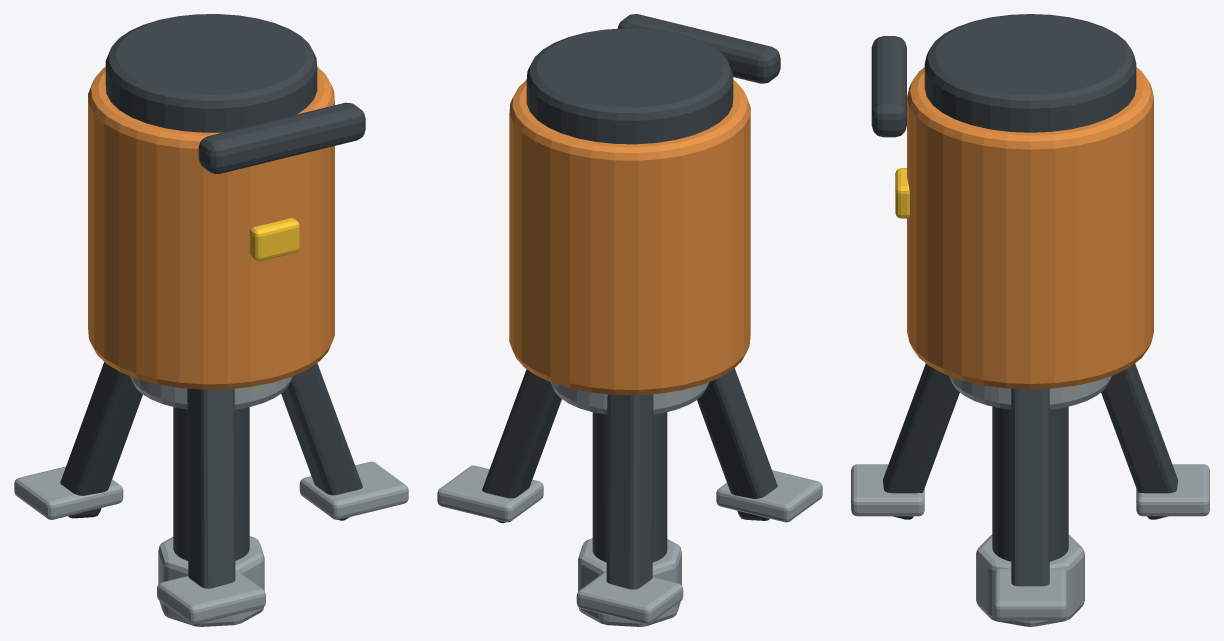
Rendered from portable_miner_prototype.glb.
The picture shows the model from 3 angles, left to right: view 1: azimuth 30°, elevation 25°; view 2: azimuth 150°, elevation 25°; view 3: azimuth 270°, elevation 25°; orthographic projection. The views are drawn at different scales.
Visible parts, largest first — view 1: Main motor casing, Motor end cap, Tripod leg.002, Carry handle, Tripod leg.001, Tripod leg, Drill spindle, Foot pad.002, Foot pad, Foot pad.001, Drill bit, Drive collar (+1 smaller); view 2: Main motor casing, Motor end cap, Tripod leg.001, Tripod leg.002, Tripod leg, Drill spindle, Foot pad.001, Carry handle, Foot pad, Foot pad.002, Drill bit, Drive collar; view 3: Main motor casing, Motor end cap, Tripod leg, Drill spindle, Tripod leg.001, Tripod leg.002, Carry handle, Drill bit, Foot pad, Foot pad.001, Foot pad.002, Drive collar (+1 smaller).
Part boxes in pixels (x1,y1,x2,y2): Main motor casing: [88, 67, 334, 389]; Motor end cap: [105, 14, 317, 132]; Tripod leg.002: [187, 388, 235, 588]; Carry handle: [198, 102, 365, 173]; Tripod leg.001: [60, 362, 142, 518]; Tripod leg: [281, 363, 362, 520]; Drill spindle: [173, 407, 249, 560]; Foot pad.002: [157, 569, 265, 624]; Foot pad: [299, 461, 408, 519]; Foot pad.001: [14, 466, 123, 519]; Drill bit: [158, 536, 264, 626]; Drive collar: [130, 376, 292, 409]; Main motor casing: [509, 80, 750, 395]; Motor end cap: [526, 28, 733, 144]; Tripod leg.001: [606, 394, 653, 589]; Tripod leg.002: [697, 368, 777, 520]; Tripod leg: [482, 369, 561, 523]; Drill spindle: [592, 412, 667, 562]; Foot pad.001: [576, 571, 683, 624]; Carry handle: [617, 14, 780, 83]; Foot pad: [437, 465, 543, 522]; Foot pad.002: [716, 470, 822, 522]; Drill bit: [578, 538, 681, 626]; Drive collar: [551, 382, 709, 414]; Main motor casing: [907, 67, 1153, 389]; Motor end cap: [924, 14, 1136, 132]; Tripod leg: [1011, 388, 1049, 586]; Drill spindle: [992, 406, 1068, 561]; Tripod leg.001: [1101, 363, 1177, 519]; Tripod leg.002: [883, 363, 959, 519]; Carry handle: [871, 36, 906, 137]; Drill bit: [976, 535, 1084, 626]; Foot pad: [993, 568, 1067, 620]; Foot pad.001: [1136, 464, 1209, 516]; Foot pad.002: [851, 464, 924, 516]; Drive collar: [949, 376, 1111, 409].
Size of what is drawn, in the model's own units: 1.14 by 2.07 by 1.22.
